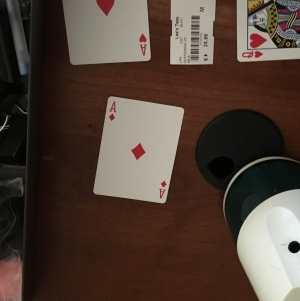card: (92, 94, 185, 207)
